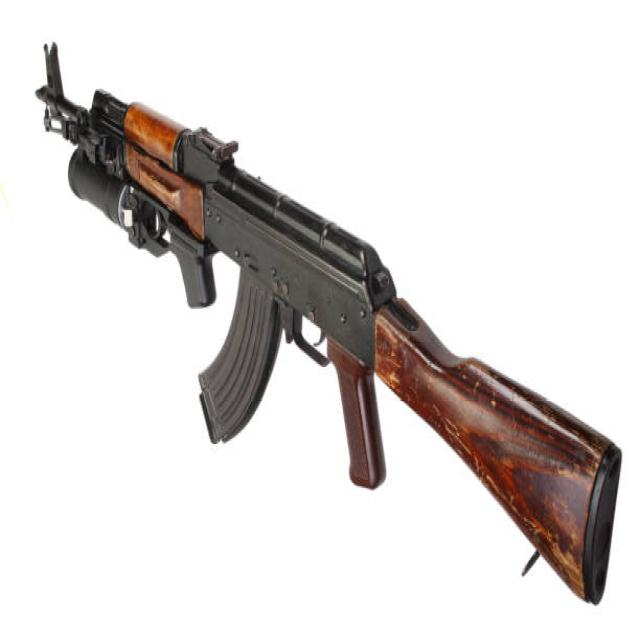rifle: (33, 29, 630, 617)
